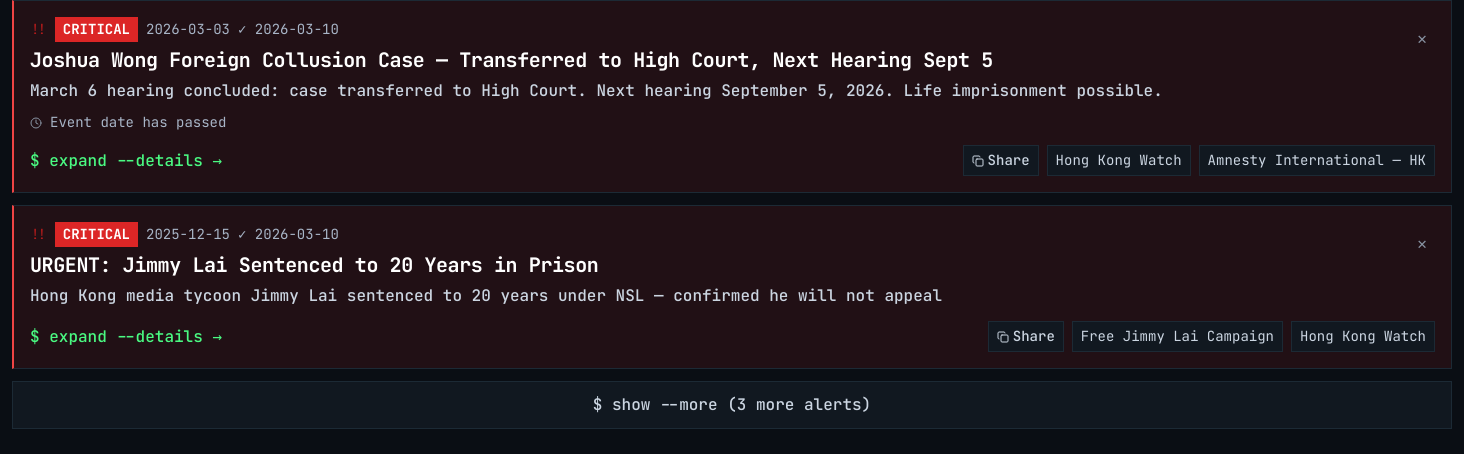
EmergencyAlerts › show-dismissed button restores all alerts
Click the button named "Dismiss alert": (1422, 39) [1409, 17, 1435, 60]
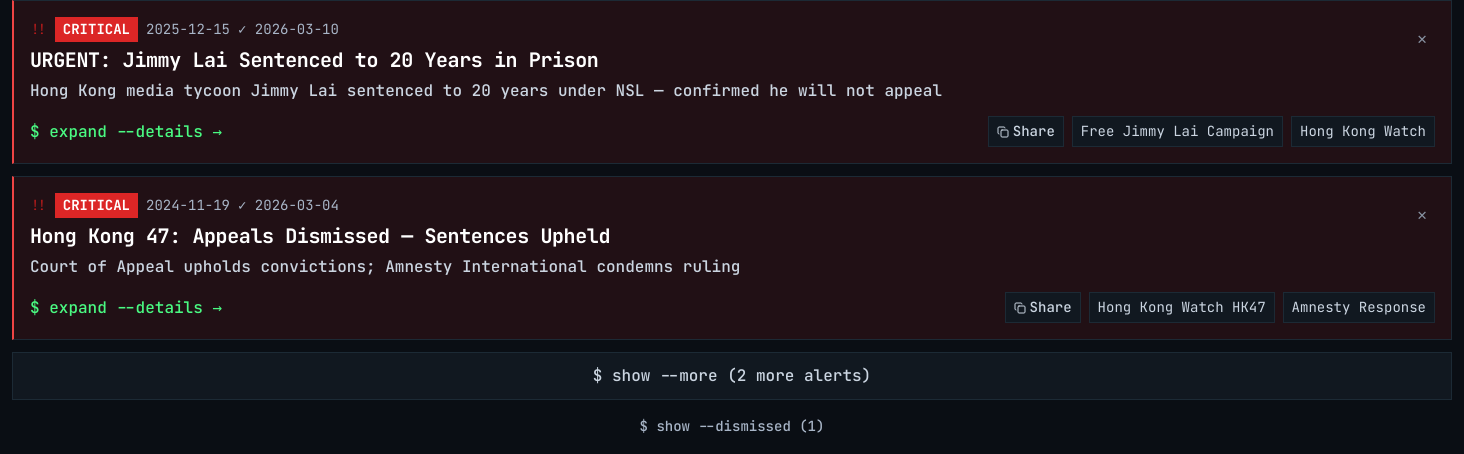
# Click show dismissed
Click the button "$ show --dismissed (1)": (732, 426) [640, 416, 824, 437]
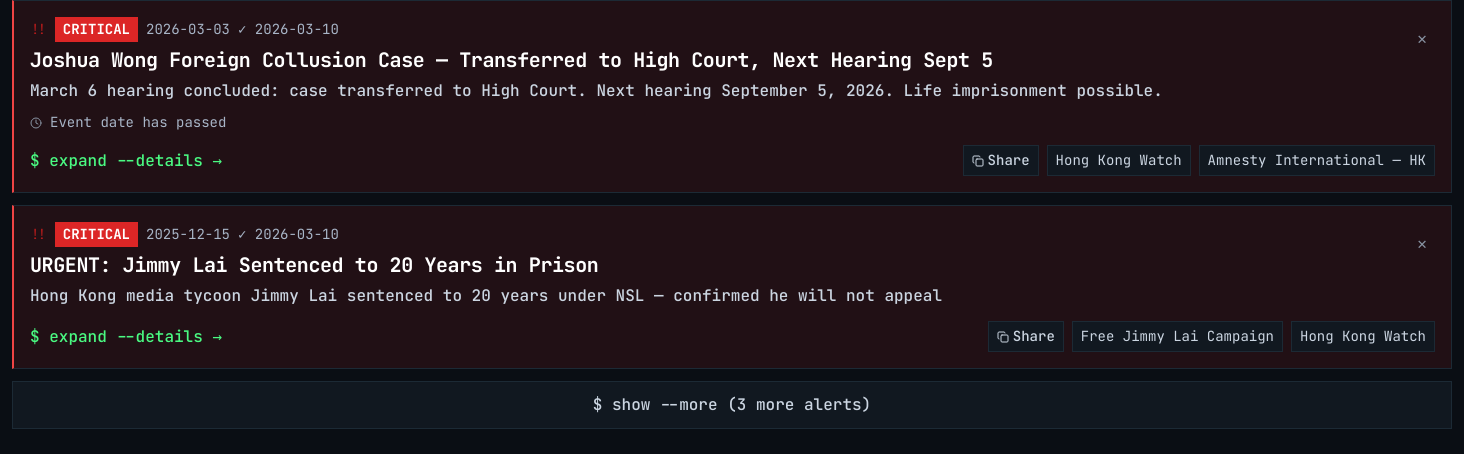
Now the heading "Joshua Wong Foreign Collusion Case" is shown, box [30, 47, 993, 73]
